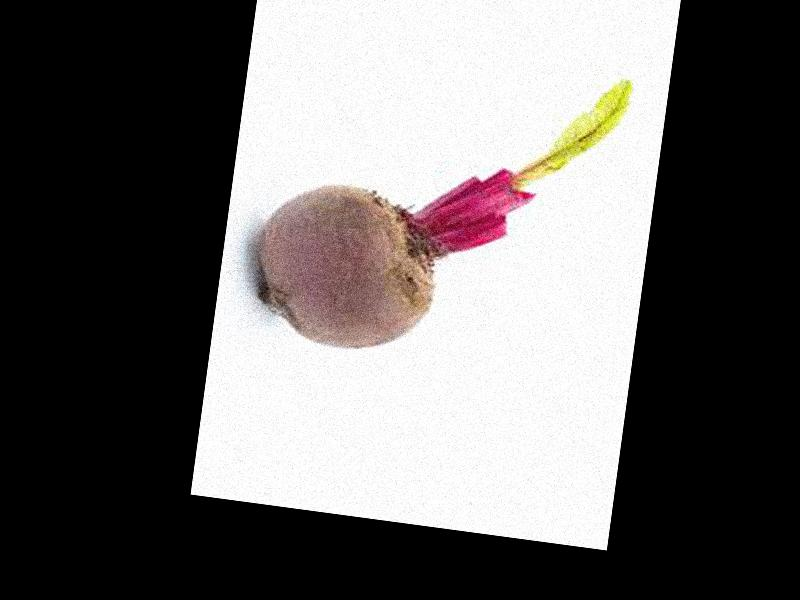Beet: (248, 37, 632, 382)
